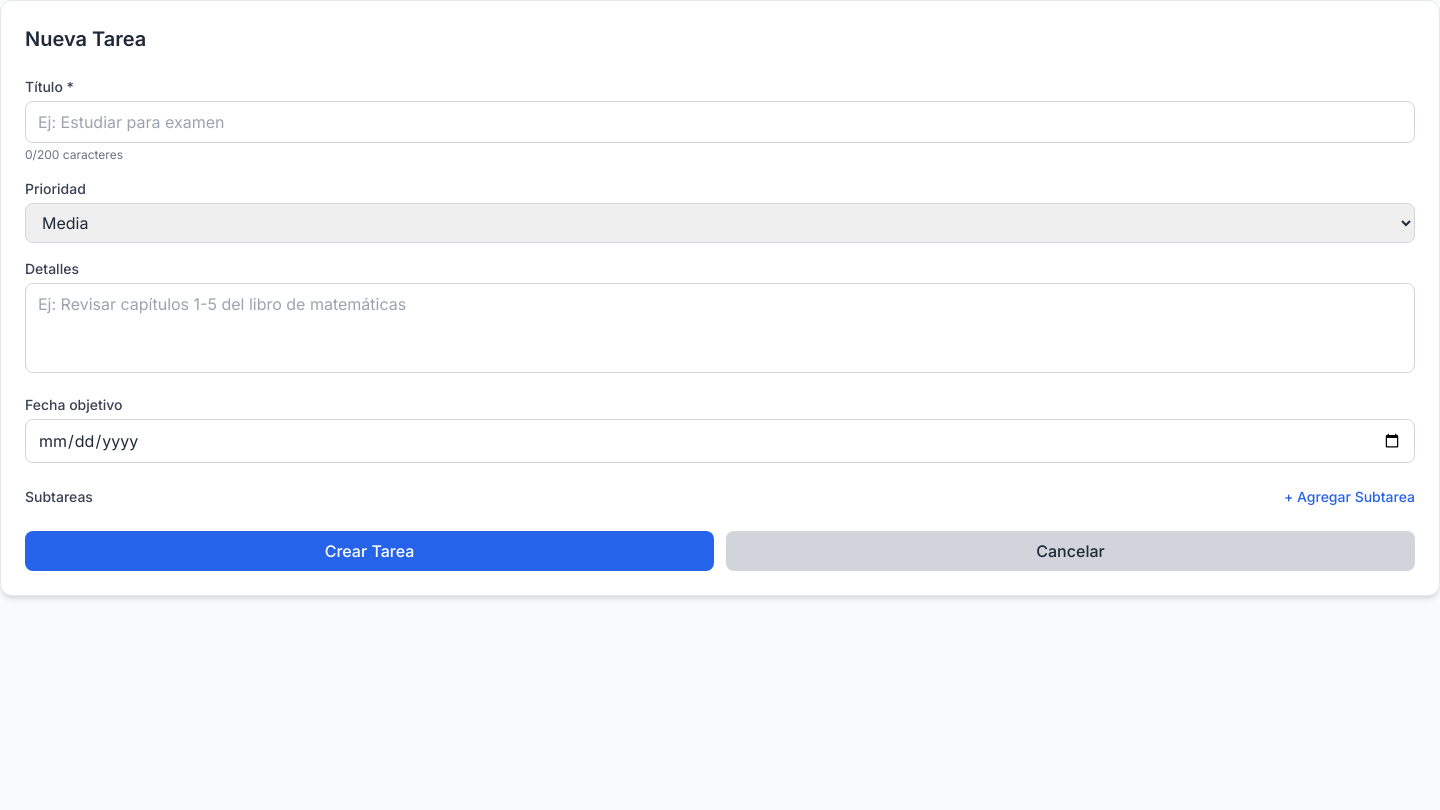
Test: TaskForm Component › Subtask Management › should add new subtask
Click the button "+ Agregar Subtarea" at {"x": 1349, "y": 497}, box [1284,487,1415,507]
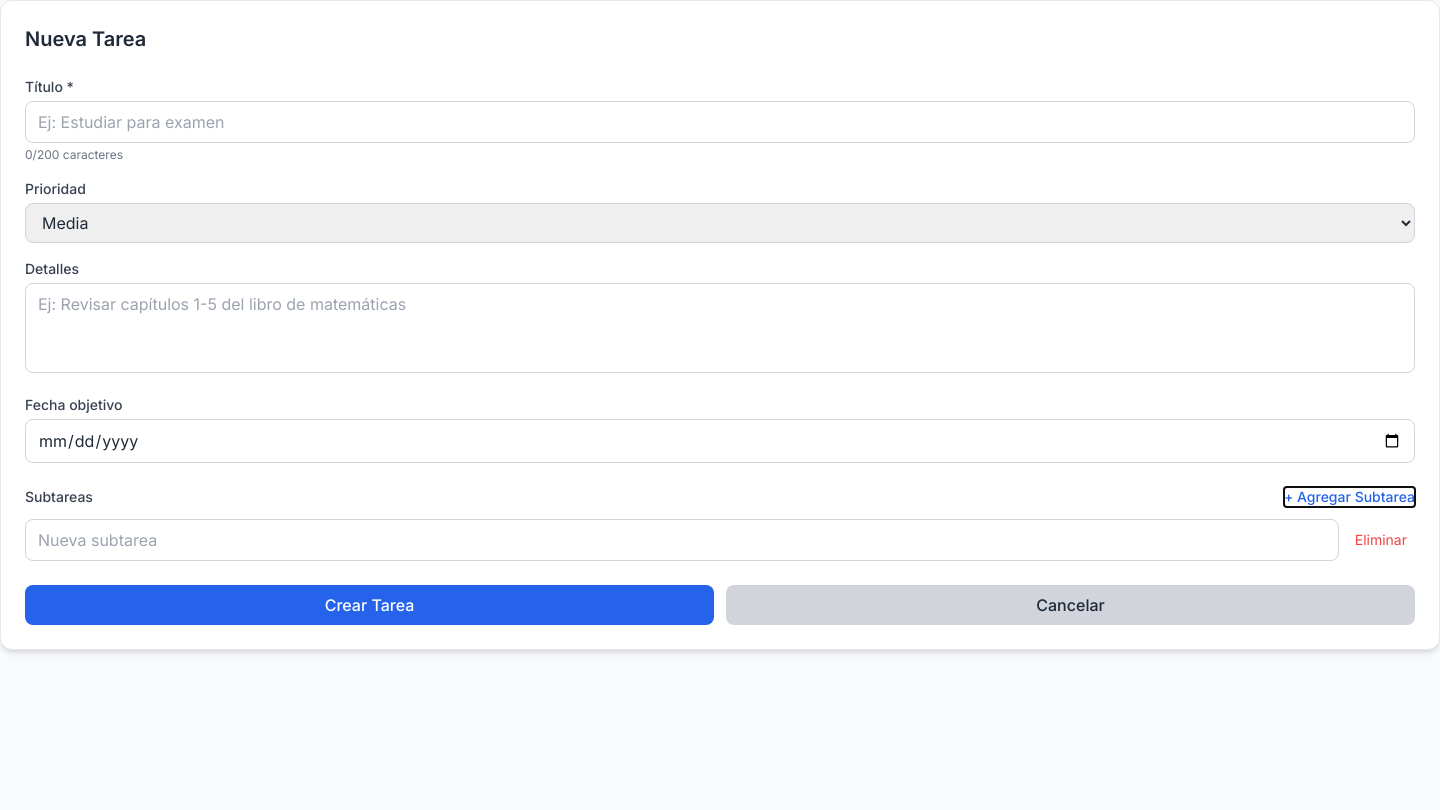
Expected: the field with placeholder "Nueva subtarea" is shown, [25,519,1339,561]
